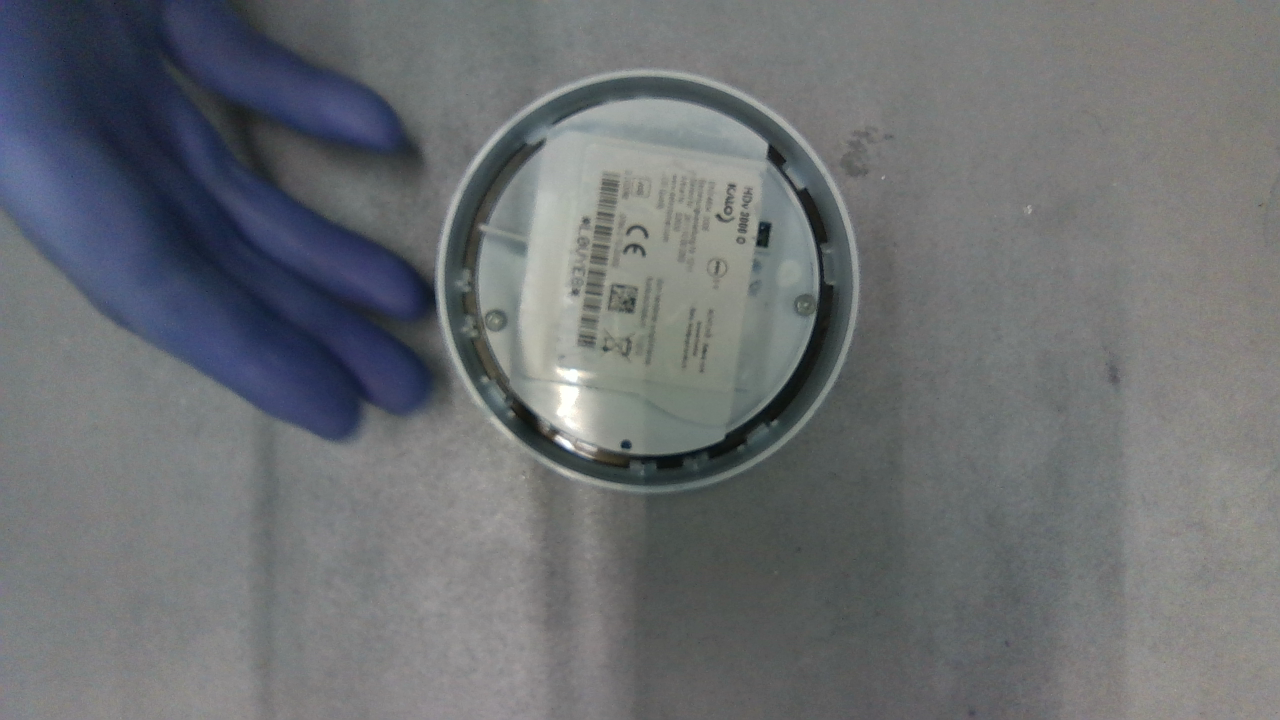HexScrew: (485, 307, 507, 334), (795, 294, 814, 316)
